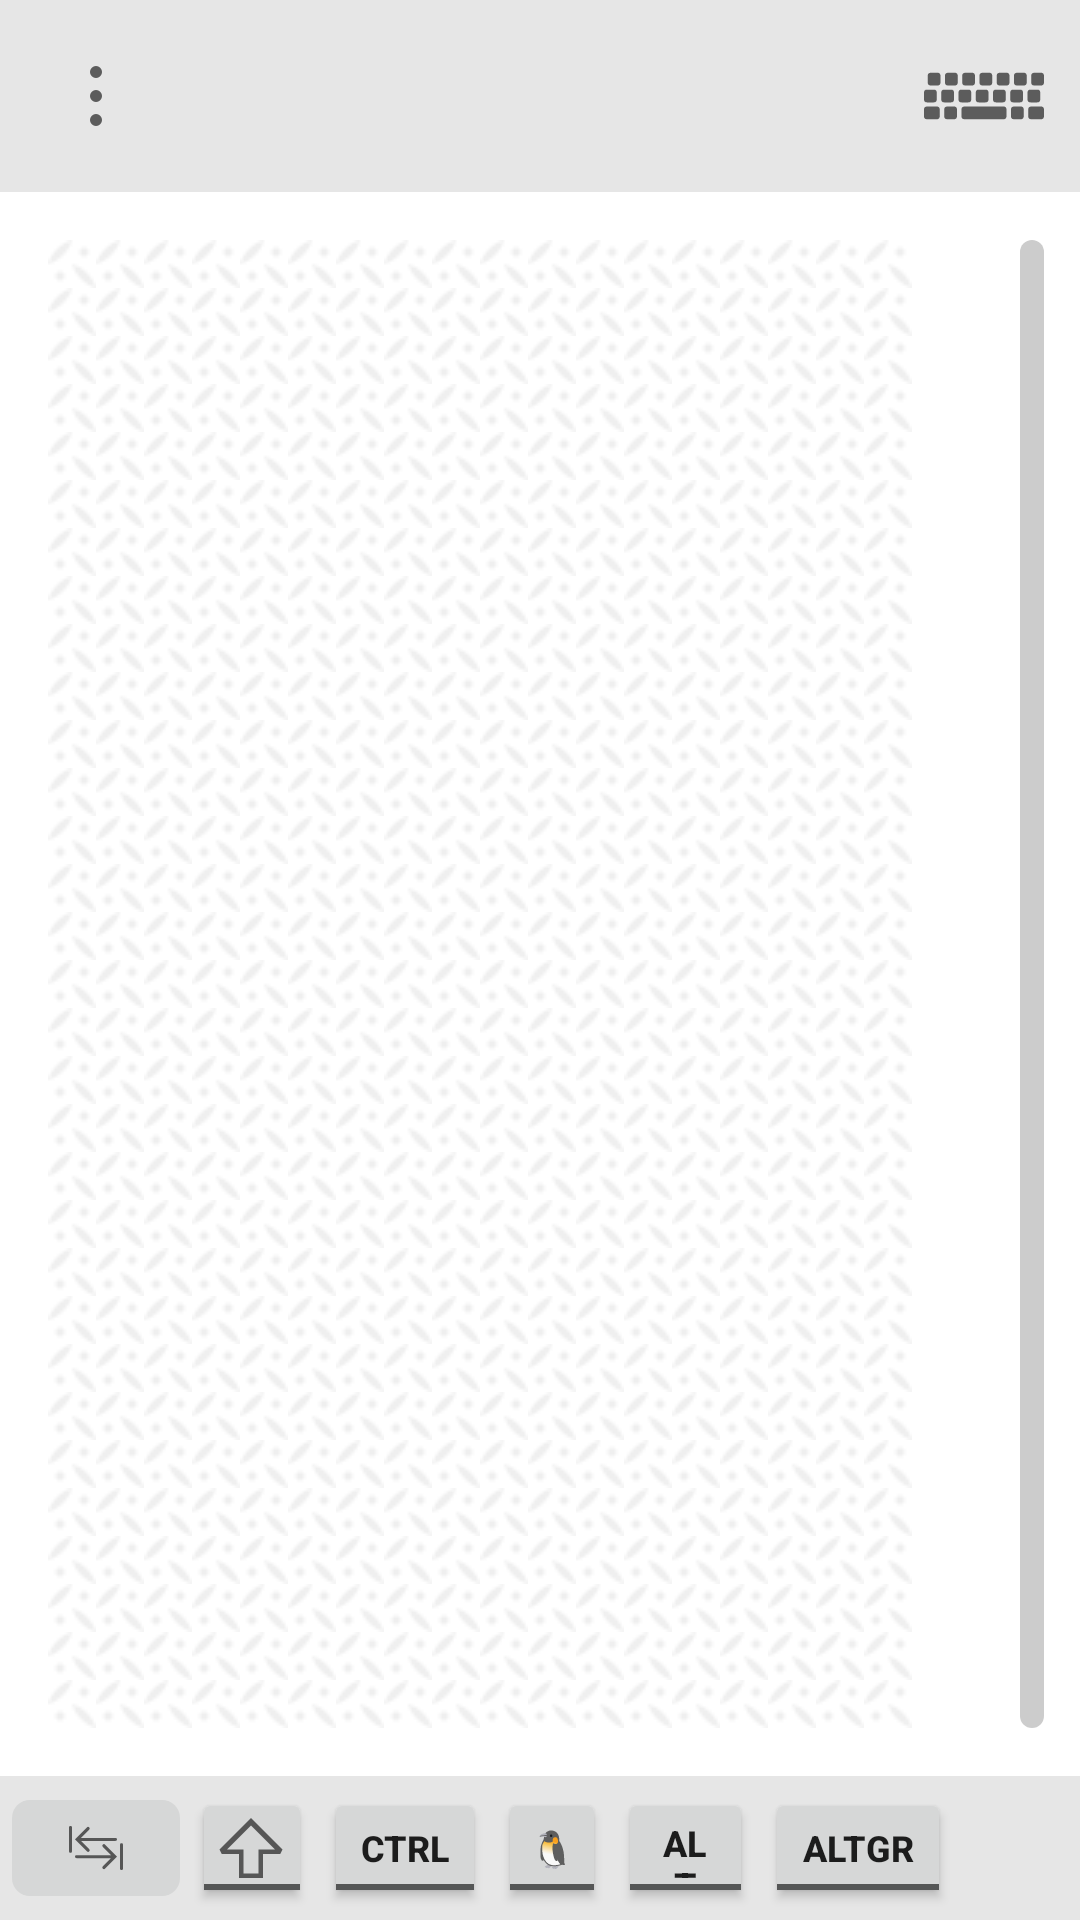

Icon bounding boxes for this 1080px x 1920px phone screenshot, format (x1, y1, x2, y2):
Settings: (90, 66, 102, 126)
Show keyboard: (924, 72, 1044, 120)
Tab: (12, 1800, 180, 1896)
